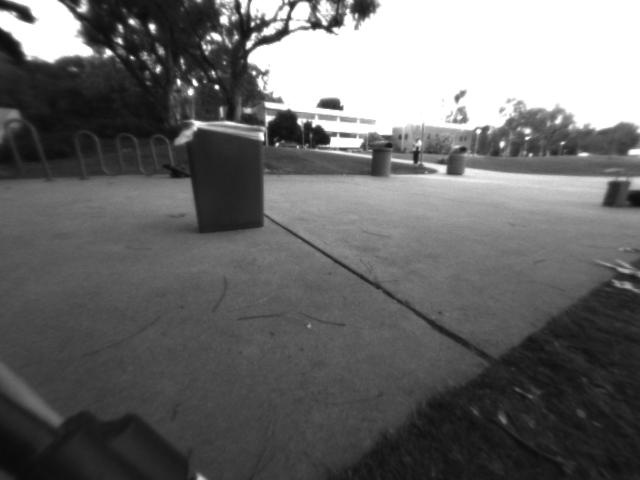trashcan_open: (179, 120, 271, 234)
